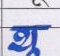u_matra: (8, 47, 42, 55)
